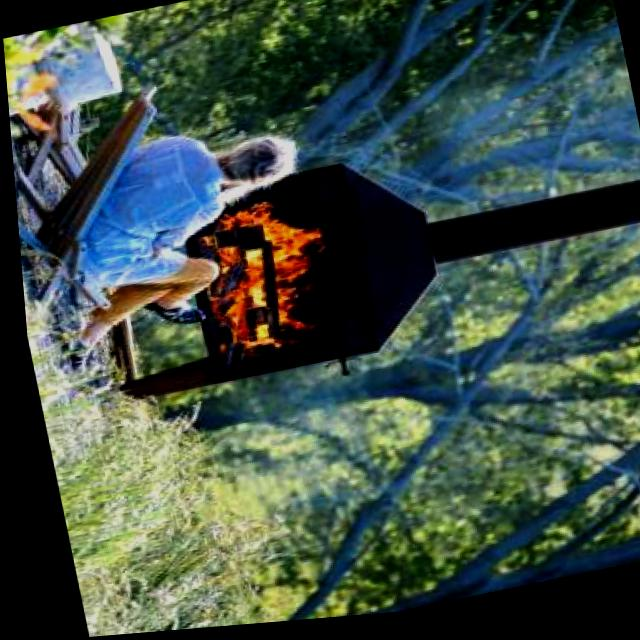helmet: (172, 186, 347, 370)
